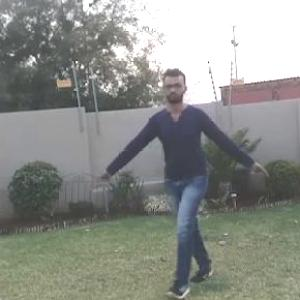land: (102, 66, 268, 291)
